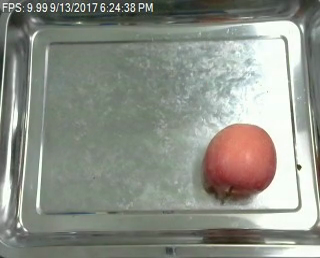Apple: (200, 122, 277, 200)
